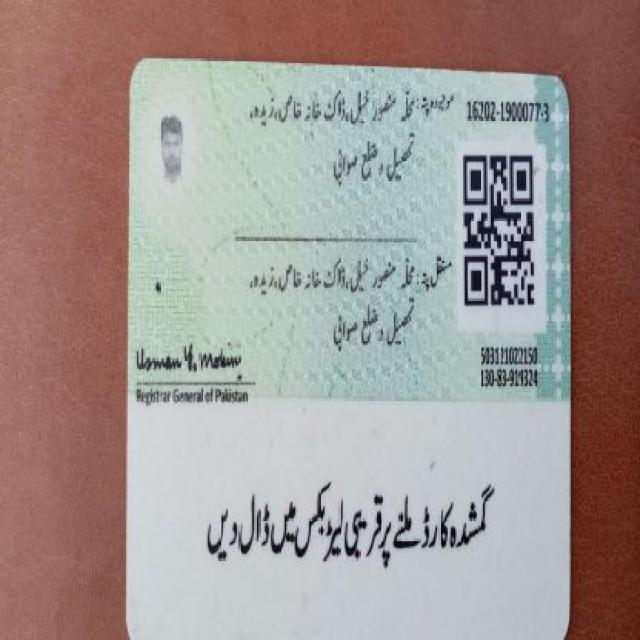Back: (117, 52, 575, 632)
